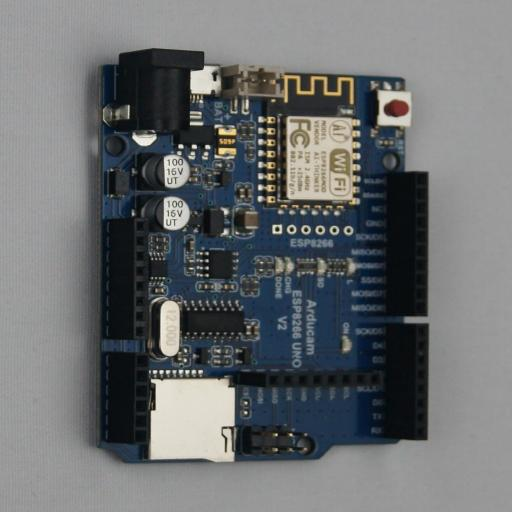Arduino Uno Camera Shield: (84, 48, 428, 464)
